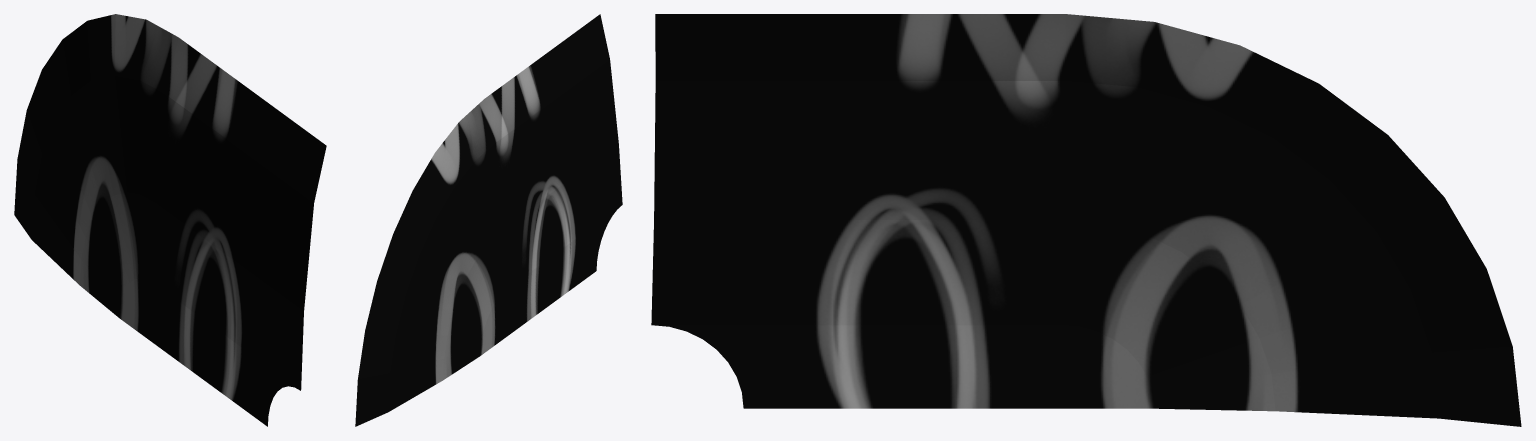
Rendered from Sword_Ego_Back_R01.fbx.
3 views of the same model, side by side, from view 1: azimuth 30°, elevation 25°; view 2: azimuth 150°, elevation 25°; view 3: azimuth 270°, elevation 25° (orthographic). The views are drawn at different scales.
Parts seen in each view (by area): view 1: Cylinder.006; view 2: Cylinder.006; view 3: Cylinder.006.
Boxes of the visible parts, box(x1,y1,x2,y2) form: Cylinder.006: box(14, 14, 326, 426); Cylinder.006: box(355, 14, 622, 426); Cylinder.006: box(651, 14, 1521, 426).
Bounding box in the file's own units: 191 × 9.49 × 100.
